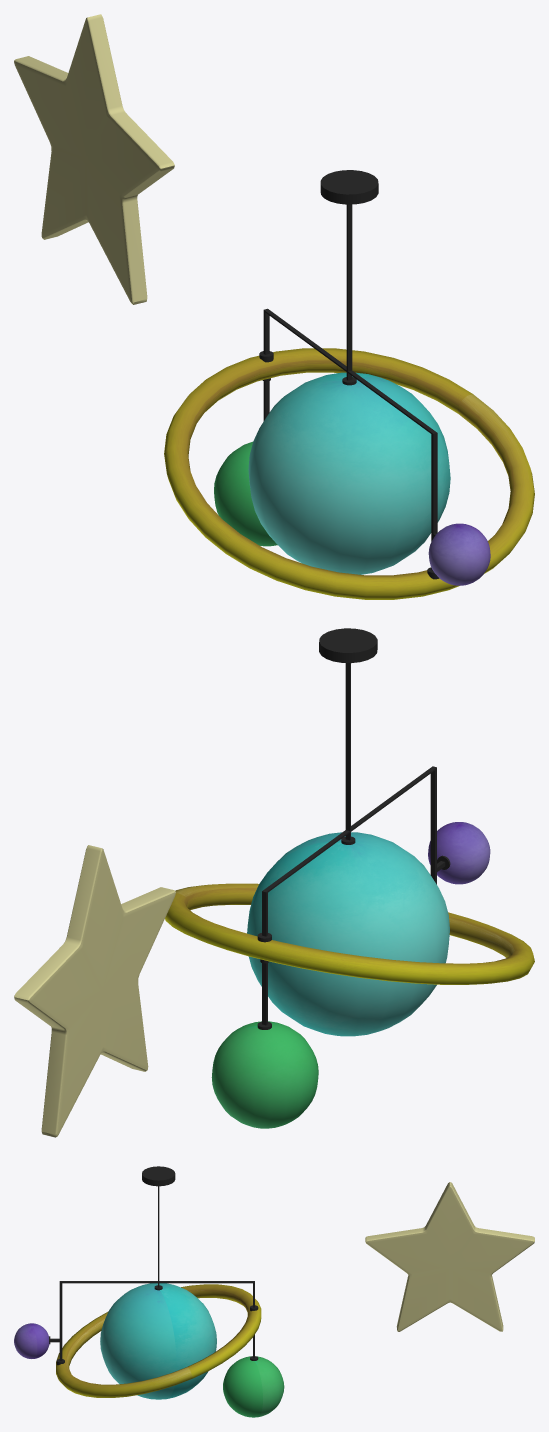
The model's file is SpaceDecorations.fbx.
3 renders of one model, top to bottom at view 1: azimuth 30°, elevation 25°; view 2: azimuth 150°, elevation 25°; view 3: azimuth 270°, elevation 25°, orthographic. The views are drawn at different scales.
Parts seen in each view (by area): view 1: SolarSystem, Star; view 2: SolarSystem, Star; view 3: SolarSystem, Star.
Boxes of the visible parts, x1=… form: SolarSystem: x1=164, y1=170, x2=534, y2=599; Star: x1=14, y1=14, x2=174, y2=304; SolarSystem: x1=165, y1=628, x2=534, y2=1128; Star: x1=14, y1=845, x2=175, y2=1137; SolarSystem: x1=14, y1=1166, x2=284, y2=1417; Star: x1=365, y1=1182, x2=534, y2=1331.
Size of the model in its own units: 12.86 by 15.87 by 31.06.
